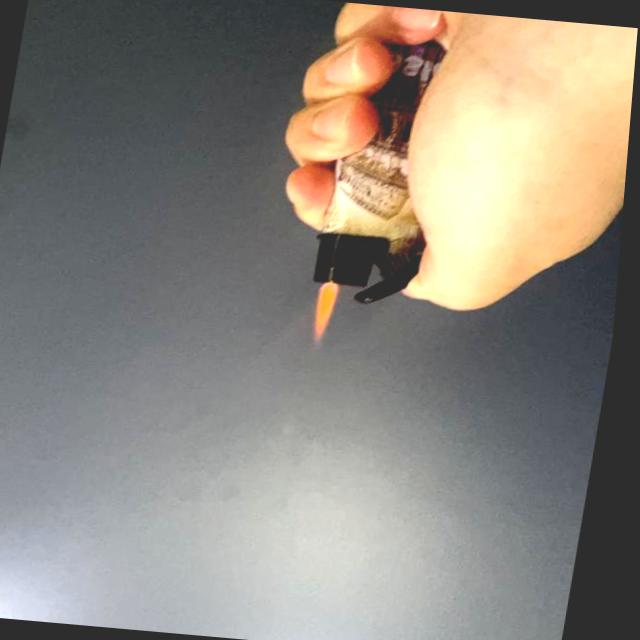Fire: (310, 281, 344, 346)
